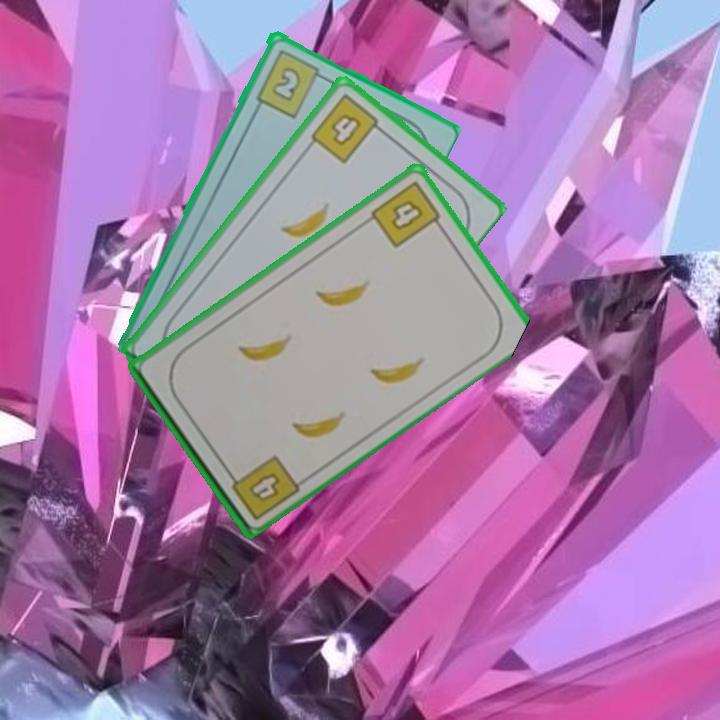2b: (252, 45, 330, 120)
4b: (306, 90, 388, 167), (367, 177, 447, 251), (222, 451, 302, 523)
